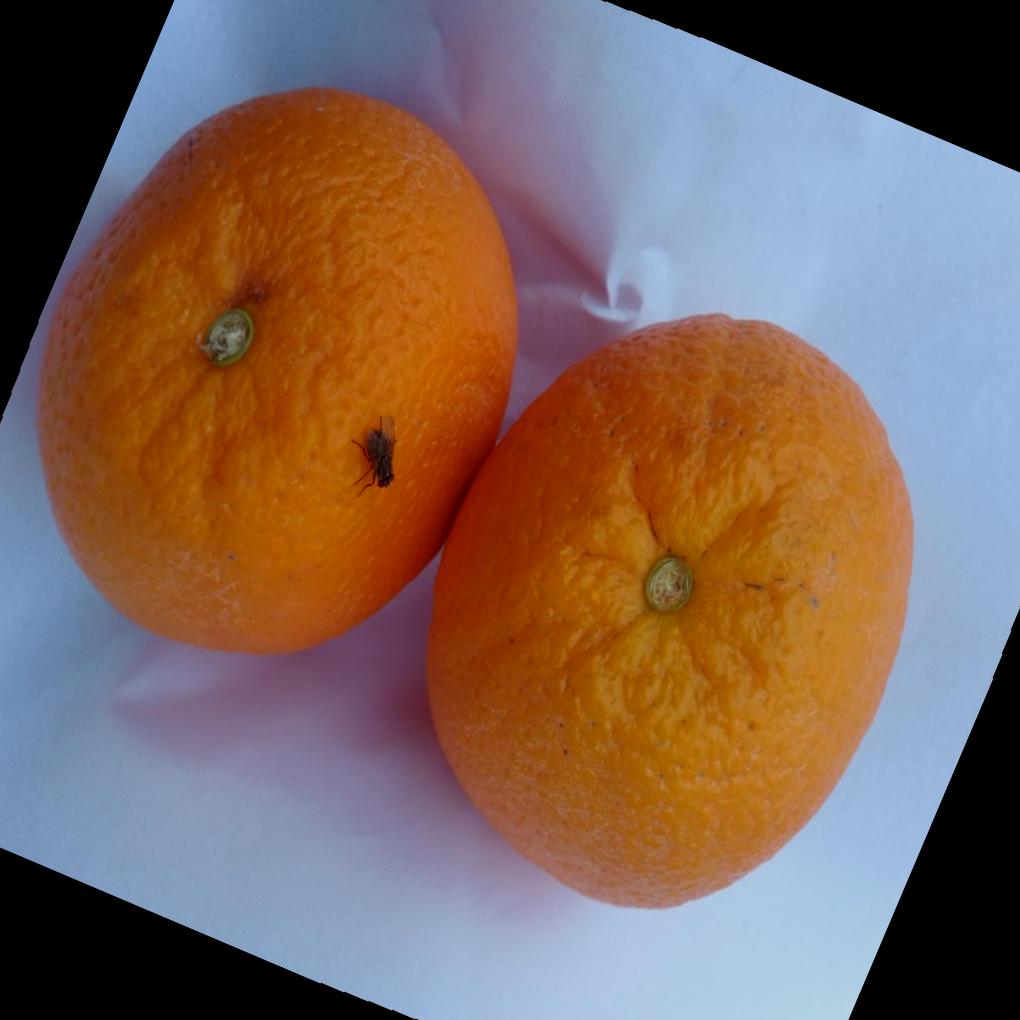FreshGuava: (30, 84, 912, 910)
